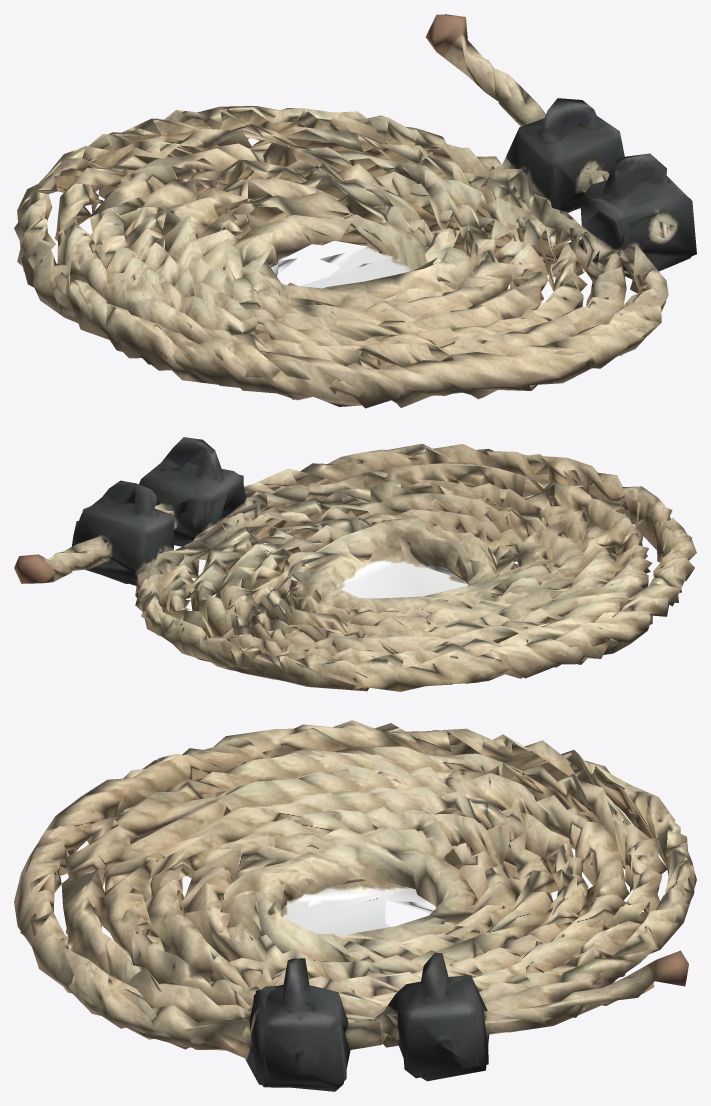
The model's file is ship-rope-coil.glb.
3 renders of one model, top to bottom at view 1: azimuth 30°, elevation 25°; view 2: azimuth 150°, elevation 25°; view 3: azimuth 270°, elevation 25°, orthographic. The views are drawn at different scales.
Size of the model in its own units: 1.6 by 0.283 by 1.53.
Materials: 1 (1 with a texture image).
